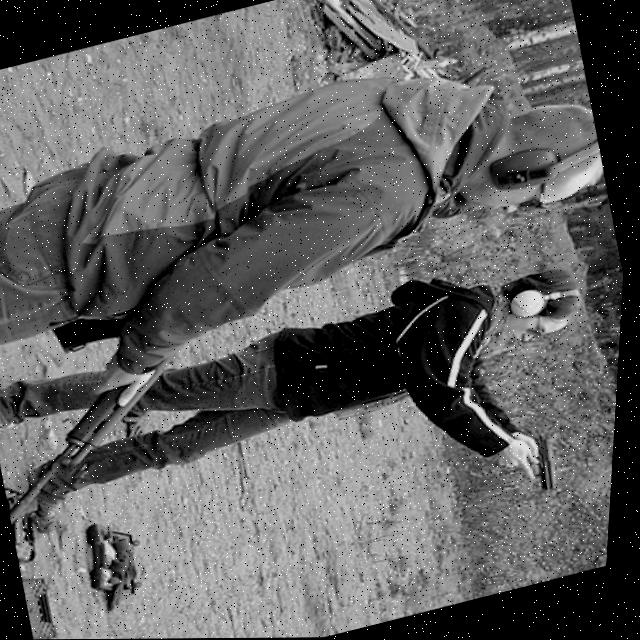firearm: (0, 354, 201, 531)
pistol: (531, 433, 569, 494)
